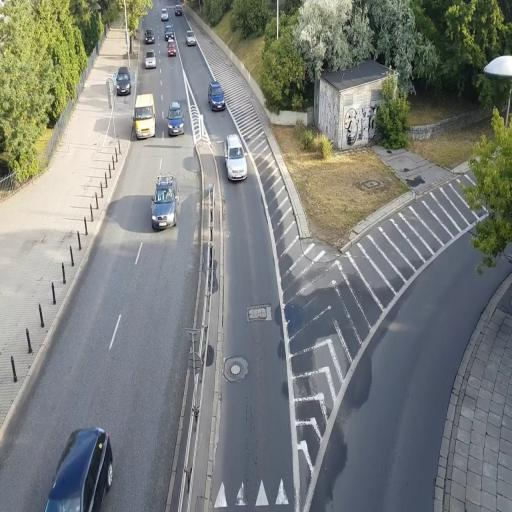vehicle: (44, 426, 114, 511), (151, 175, 176, 231), (225, 133, 248, 184), (132, 94, 156, 140), (168, 101, 184, 135), (114, 67, 132, 96), (209, 82, 225, 110), (185, 30, 196, 45)
